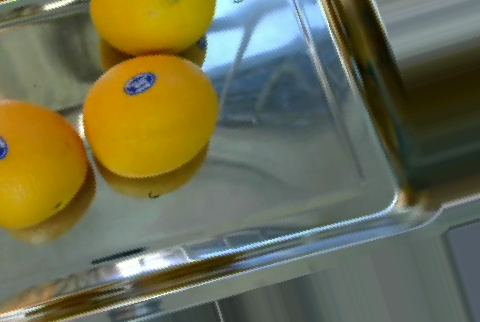Orange: (82, 53, 220, 178), (1, 98, 87, 228), (87, 0, 216, 55)
